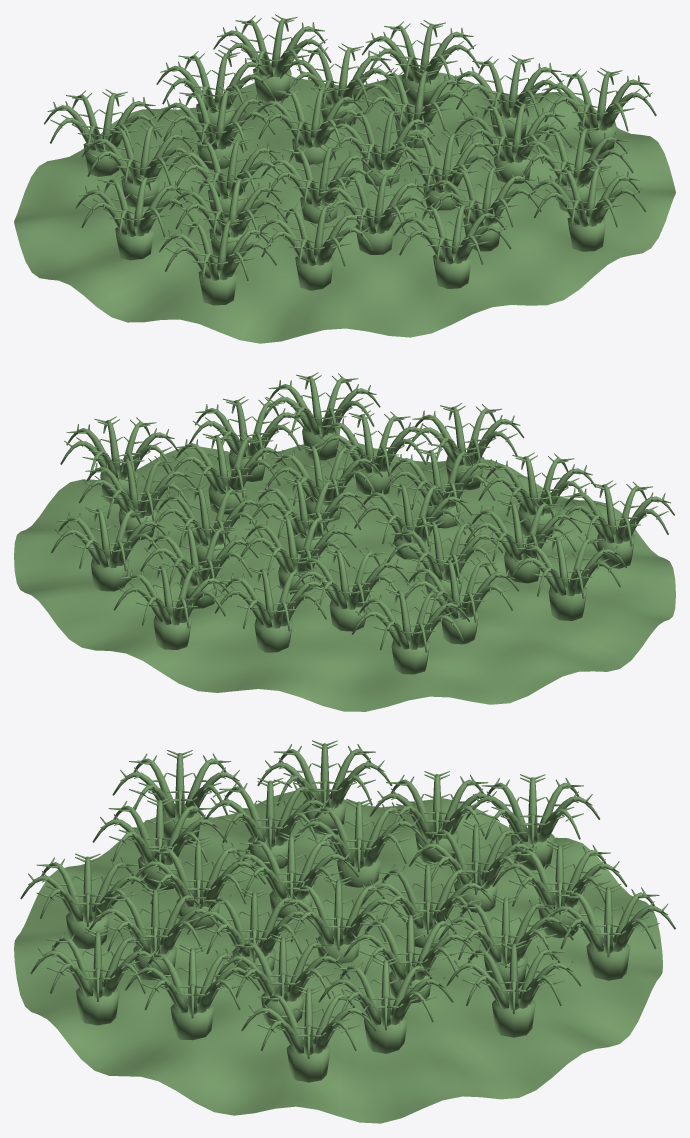
The model's file is greenstar-desktop.glb.
3 renders of one model, top to bottom at view 1: azimuth 30°, elevation 25°; view 2: azimuth 150°, elevation 25°; view 3: azimuth 270°, elevation 25°, orthographic. The views are drawn at different scales.
Visible parts, largest first — view 1: encrusting-mat, octocoral-tentacle, pinnule, polyp-column; view 2: encrusting-mat, octocoral-tentacle, pinnule, polyp-column; view 3: encrusting-mat, octocoral-tentacle, pinnule, polyp-column.
Boxes of the visible parts, x1,y1,x2,y2 form: encrusting-mat: (14,72,675,343); octocoral-tentacle: (44,18,656,283); pinnule: (47,14,652,264); polyp-column: (83,67,616,305); encrusting-mat: (14,440,675,711); octocoral-tentacle: (51,376,674,652); pinnule: (54,372,670,633); polyp-column: (90,424,635,674); encrusting-mat: (14,790,662,1123); octocoral-tentacle: (20,743,675,1059); pinnule: (28,740,668,1036); polyp-column: (65,799,630,1082).
Size of the model in its own units: 0.64 by 0.0804 by 0.5613.
